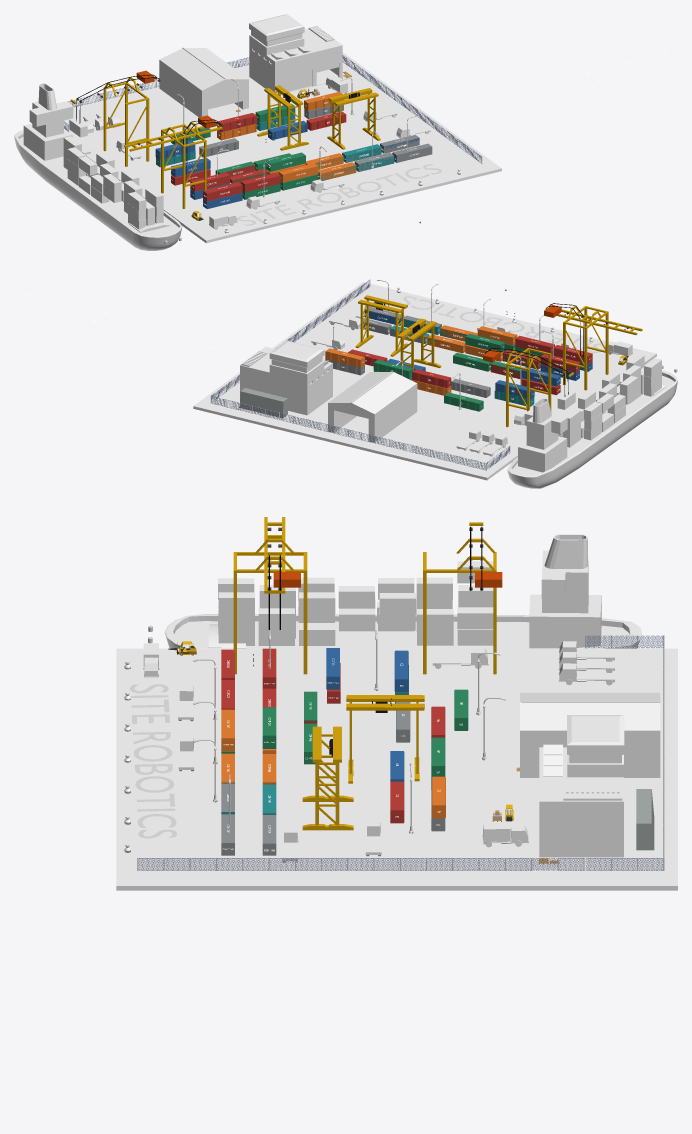
Rendered from industry_seaport_optimized.glb.
3 views of the same model, one above another, from view 1: azimuth 30°, elevation 25°; view 2: azimuth 150°, elevation 25°; view 3: azimuth 270°, elevation 25° (orthographic). The views are drawn at different scales.
Visible parts, largest first — view 1: ground, Cube.337, Cube.003, Container_CONT-007, Cube.020, Text, SR_Added_Container_CONT-038, SR_Added_Container_CONT-042, SR_Added_Container_CONT-053, SR_Added_Container_CONT-039, Container_CONT-026, SR_Added_Container_CONT-047 (+14 smaller); view 2: ground, Cube.337, Cube.003, Container_CONT-007, Cube.020, Container_CONT-006, Text, Container_CONT-026, Container_CONT-028, Container_CONT-030, Container_CONT-033, SR_Added_Container_CONT-053 (+11 smaller); view 3: ground, Cube.337, Cube.003, Container_CONT-007, Cube.020, Text, Container_CONT-006, Cube.033.
Part boxes in pixels (bbox=[...]): ground: bbox=[64, 52, 501, 243]; Cube.337: bbox=[249, 14, 342, 94]; Cube.003: bbox=[159, 47, 248, 117]; Container_CONT-007: bbox=[14, 130, 182, 250]; Cube.020: bbox=[23, 83, 73, 160]; Text: bbox=[237, 164, 441, 225]; SR_Added_Container_CONT-038: bbox=[203, 182, 242, 201]; SR_Added_Container_CONT-042: bbox=[278, 163, 318, 182]; SR_Added_Container_CONT-053: bbox=[266, 152, 305, 171]; SR_Added_Container_CONT-039: bbox=[241, 173, 280, 192]; Container_CONT-026: bbox=[217, 113, 256, 132]; SR_Added_Container_CONT-047: bbox=[392, 143, 432, 162]; ground: bbox=[193, 282, 656, 480]; Cube.337: bbox=[240, 340, 332, 415]; Cube.003: bbox=[328, 371, 417, 442]; Container_CONT-007: bbox=[507, 370, 677, 488]; Cube.020: bbox=[518, 398, 567, 472]; Container_CONT-006: bbox=[239, 388, 287, 418]; Text: bbox=[398, 296, 605, 352]; Container_CONT-026: bbox=[412, 369, 451, 388]; Container_CONT-028: bbox=[325, 348, 364, 367]; Container_CONT-030: bbox=[451, 378, 490, 397]; Container_CONT-033: bbox=[444, 392, 483, 411]; SR_Added_Container_CONT-053: bbox=[465, 334, 504, 352]; ground: bbox=[116, 648, 677, 890]; Cube.337: bbox=[539, 715, 624, 857]; Cube.003: bbox=[520, 692, 660, 777]; Container_CONT-007: bbox=[164, 614, 641, 648]; Cube.020: bbox=[529, 534, 601, 648]; Text: bbox=[129, 684, 176, 838]; Container_CONT-006: bbox=[636, 789, 654, 850]; Cube.033: bbox=[482, 822, 528, 847].
Bounding box in the file's own units: 205 × 30.63 × 120.
